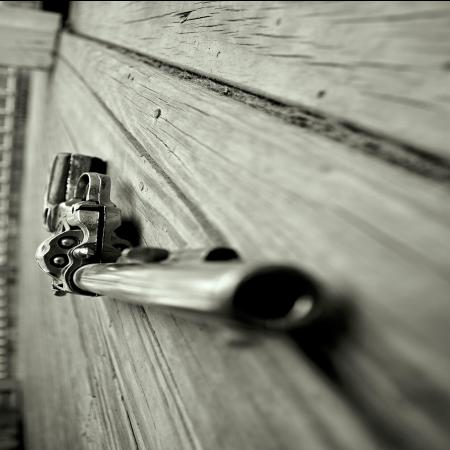Pistol: (33, 150, 330, 342)
